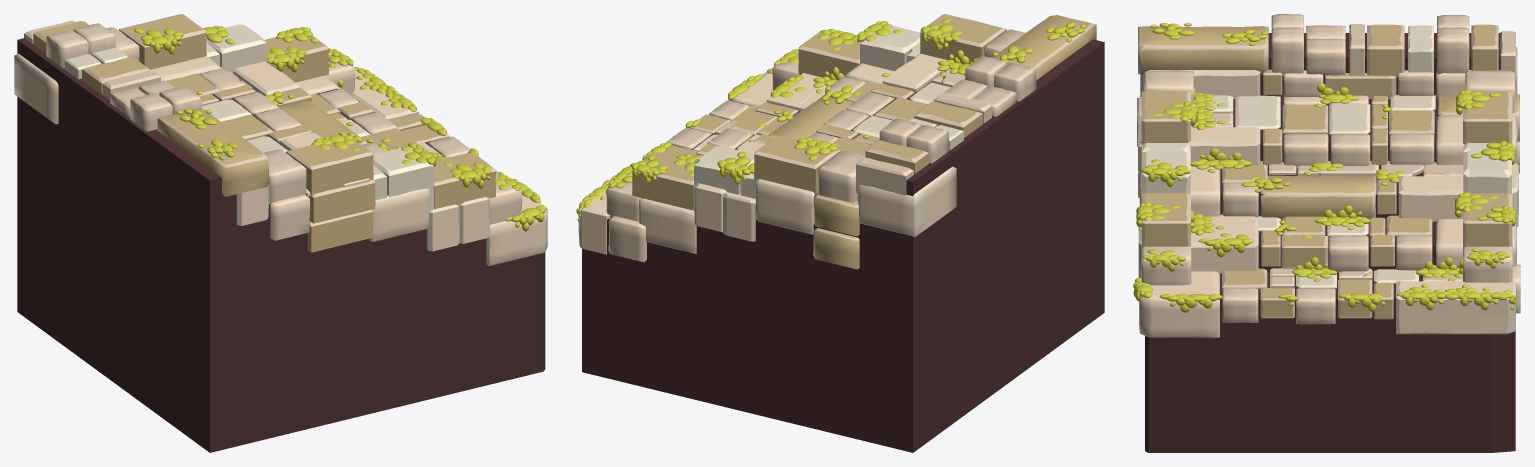
The model's file is Gradins_Court.fbx.
3 views of the same model, side by side, from view 1: azimuth 30°, elevation 25°; view 2: azimuth 150°, elevation 25°; view 3: azimuth 270°, elevation 25° (orthographic). The views are drawn at different scales.
Visible parts, largest first — view 1: Gradin_Court; view 2: Gradin_Court; view 3: Gradin_Court.
Part boxes in pixels (x1,y1,x2,y2): Gradin_Court: [14, 14, 547, 452]; Gradin_Court: [576, 14, 1104, 452]; Gradin_Court: [1133, 14, 1520, 452].
Size of the model in its own units: 3190 by 2573 by 3198.
